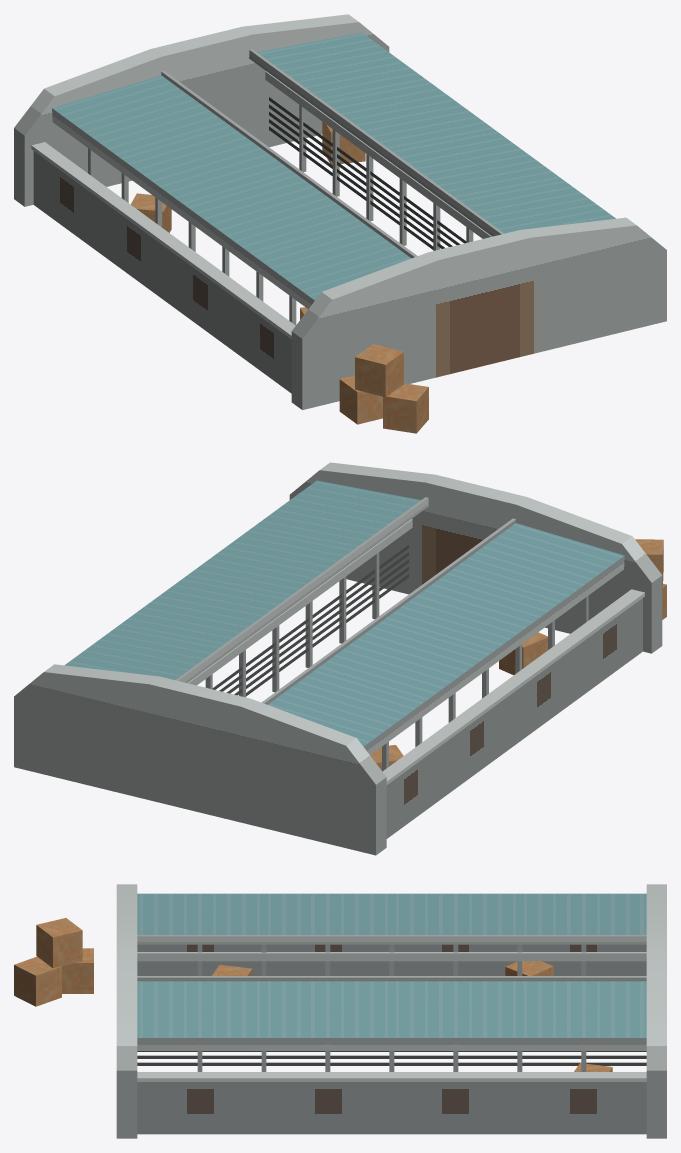
Rendered from Universal_Building_Farm_L3_01_Mod.fbx.
The picture shows the model from 3 angles, top to bottom: view 1: azimuth 30°, elevation 25°; view 2: azimuth 150°, elevation 25°; view 3: azimuth 270°, elevation 25°; orthographic projection. The views are drawn at different scales.
Parts seen in each view (by area): view 1: Universal_Building_Farm_L3_01_Mod; view 2: Universal_Building_Farm_L3_01_Mod; view 3: Universal_Building_Farm_L3_01_Mod.
Part boxes in pixels (bbox=[...]): Universal_Building_Farm_L3_01_Mod: bbox=[14, 14, 666, 433]; Universal_Building_Farm_L3_01_Mod: bbox=[14, 462, 666, 855]; Universal_Building_Farm_L3_01_Mod: bbox=[14, 884, 666, 1138].
Bounding box in the file's own units: 1175 × 360 × 1911.
